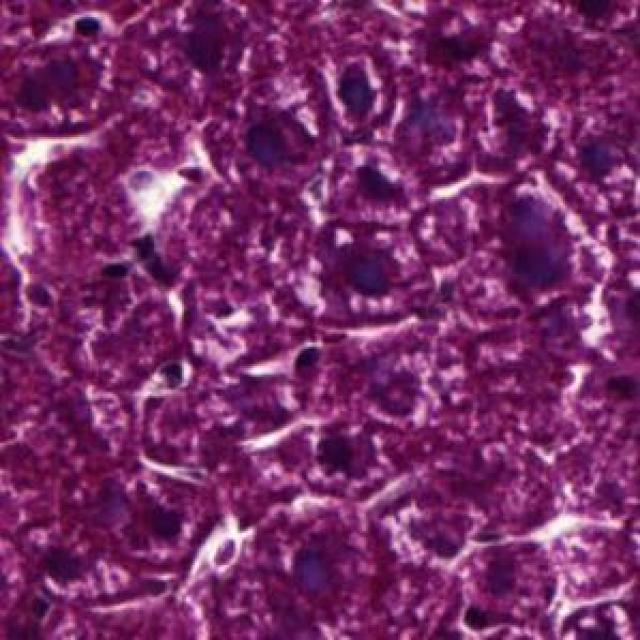inflammation: (299, 214, 422, 328), (450, 537, 565, 640), (312, 41, 402, 130)
